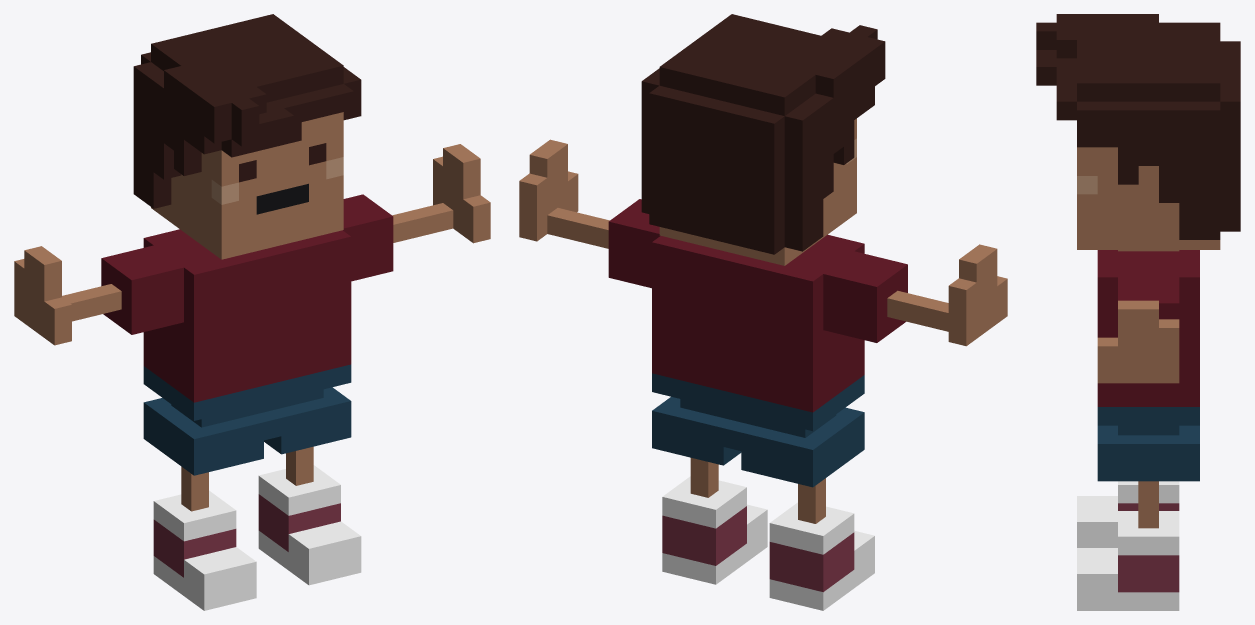
The model's file is boi.obj.
3 views of the same model, side by side, from view 1: azimuth 30°, elevation 25°; view 2: azimuth 150°, elevation 25°; view 3: azimuth 270°, elevation 25° (orthographic). The views are drawn at different scales.
Parts seen in each view (by area): view 1: boi; view 2: boi; view 3: boi.
Boxes of the visible parts, x1=… form: boi: x1=14, y1=14, x2=490, y2=610; boi: x1=519, y1=14, x2=1007, y2=610; boi: x1=1036, y1=14, x2=1240, y2=610.
Size of the model in its own units: 25 by 28 by 10.
Materials: 1 (1 with a texture image).
